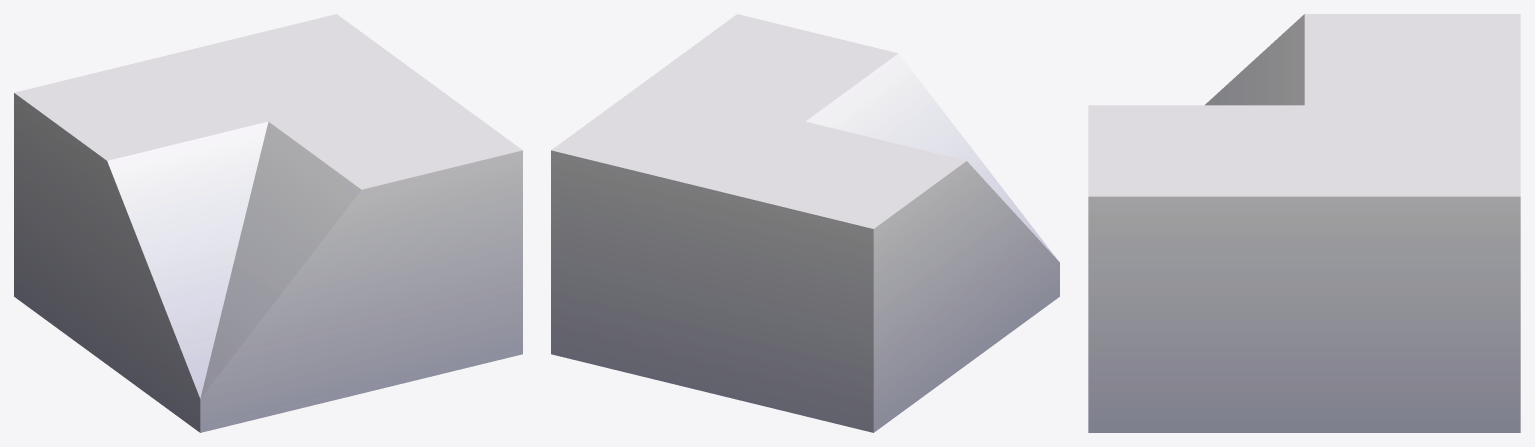
Rendered from kenney-brick-none-lq-brick-slope-corner-inside-2-x-2.glb.
3 views of the same model, side by side, from view 1: azimuth 30°, elevation 25°; view 2: azimuth 150°, elevation 25°; view 3: azimuth 270°, elevation 25° (orthographic). The views are drawn at different scales.
Parts seen in each view (by area): view 1: none-lq-brick-slope-corner-inside-2x2; view 2: none-lq-brick-slope-corner-inside-2x2; view 3: none-lq-brick-slope-corner-inside-2x2.
Part boxes in pixels (<box>): none-lq-brick-slope-corner-inside-2x2: <box>14,14,522,432</box>; none-lq-brick-slope-corner-inside-2x2: <box>551,14,1059,432</box>; none-lq-brick-slope-corner-inside-2x2: <box>1088,14,1520,432</box>.
Bounding box in the file's own units: 0.159 × 0.096 × 0.159.
1 material, 1 textured.
